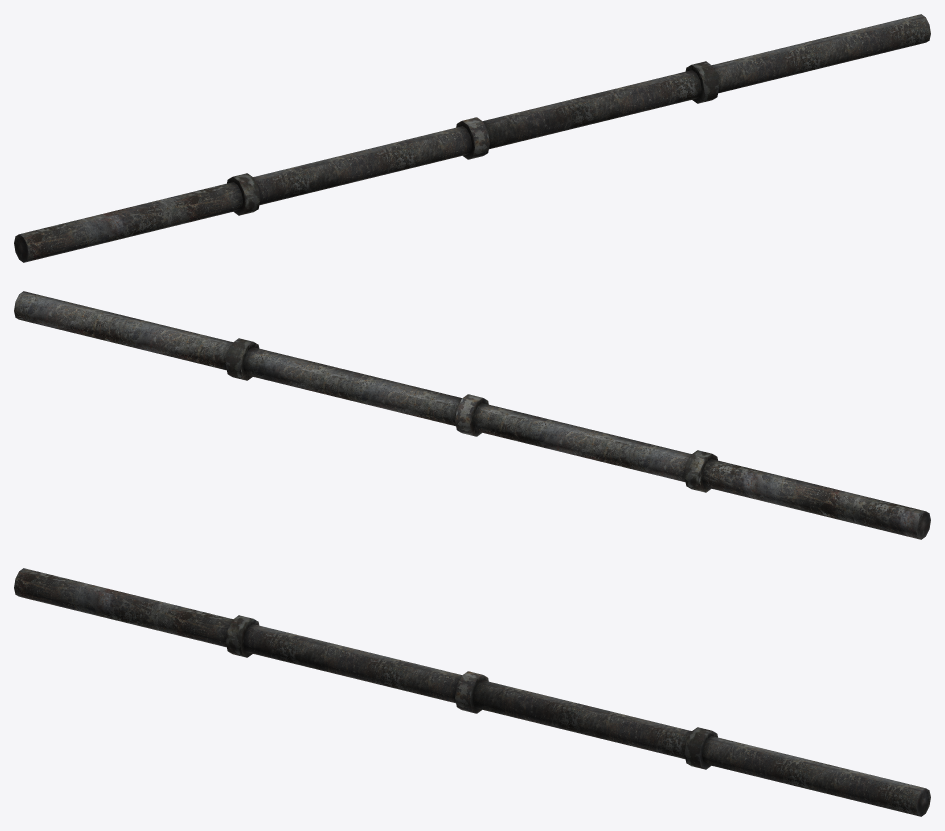
Rendered from Pipe.fbx.
3 views of the same model, one above another, from view 1: azimuth 30°, elevation 25°; view 2: azimuth 150°, elevation 25°; view 3: azimuth 330°, elevation 25° (orthographic).
Visible parts, largest first — view 1: Cylinder_003; view 2: Cylinder_003; view 3: Cylinder_003.
Boxes of the visible parts, x1,y1,x2,y2 form: Cylinder_003: (14,14,930,262); Cylinder_003: (14,291,930,539); Cylinder_003: (14,568,930,816).
Size of the model in its own units: 3.4 by 0.1243 by 0.1307.
